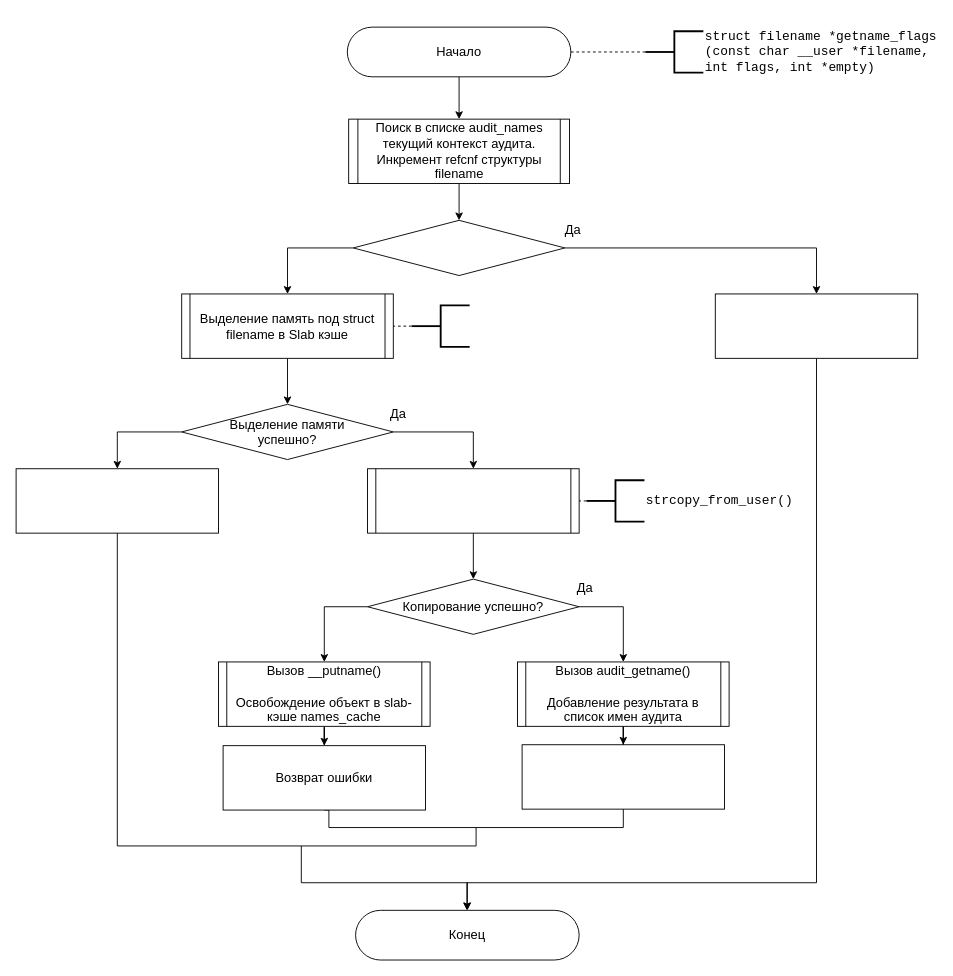
The diagram is 953 pixels wide and 976 high, and some of its shapes have lost their labels. Here are the shapes that lost their labels. From the top down, the centre of each, then its label:
pixel 458 247: Запись существует?
pixel 440 325: __getname()
pixel 816 325: Вернуть filename
pixel 116 500: Ошибка = -ENOMEM
pixel 473 500: Копирование имя файла из пространства пользователя в пространство ядра
pixel 622 776: Возврат filename
